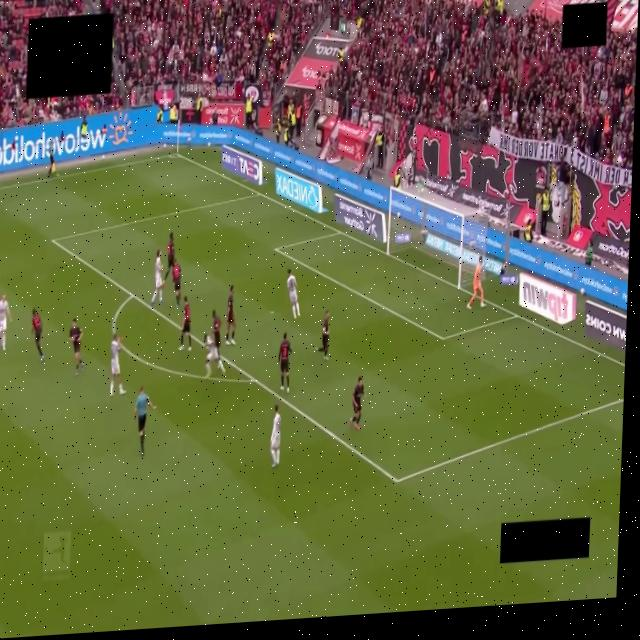player: (467, 255, 488, 309), (109, 334, 124, 397), (68, 319, 83, 375), (278, 332, 291, 393), (350, 376, 364, 430), (205, 334, 223, 376), (212, 310, 224, 372), (150, 250, 163, 305), (179, 297, 191, 351), (270, 404, 280, 468), (316, 311, 329, 360), (0, 295, 11, 350), (287, 269, 299, 319), (225, 286, 235, 345), (32, 309, 43, 361), (164, 233, 174, 281), (172, 260, 181, 306)
referee: (133, 387, 155, 455)
